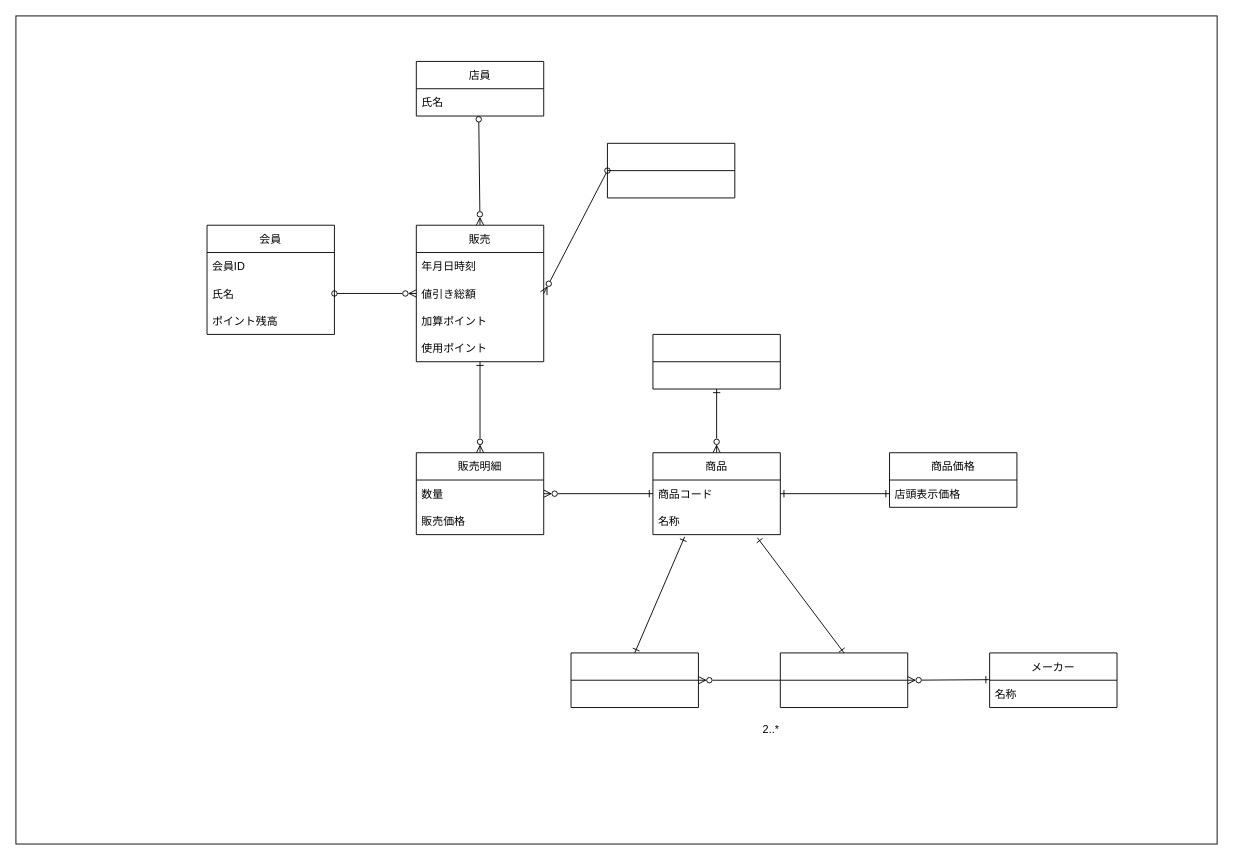
Some shapes in this 1233 by 860 pixel diagram are drawn without their labels. Each missing label, with the centre of its shape:
"セット商品" goes at (634,680).
"単体商品" goes at (843,680).
"商品カテゴリー" goes at (716,361).
"店舗" goes at (671,170).
